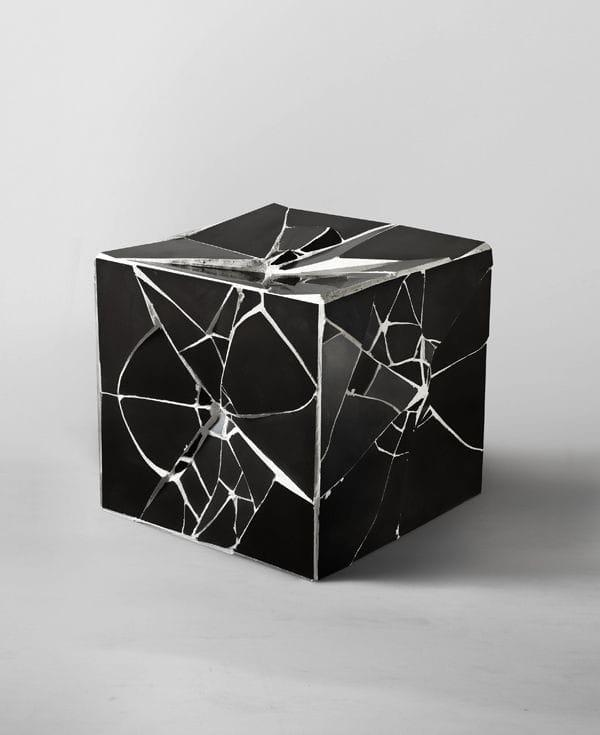cubos: (80, 188, 507, 597)
